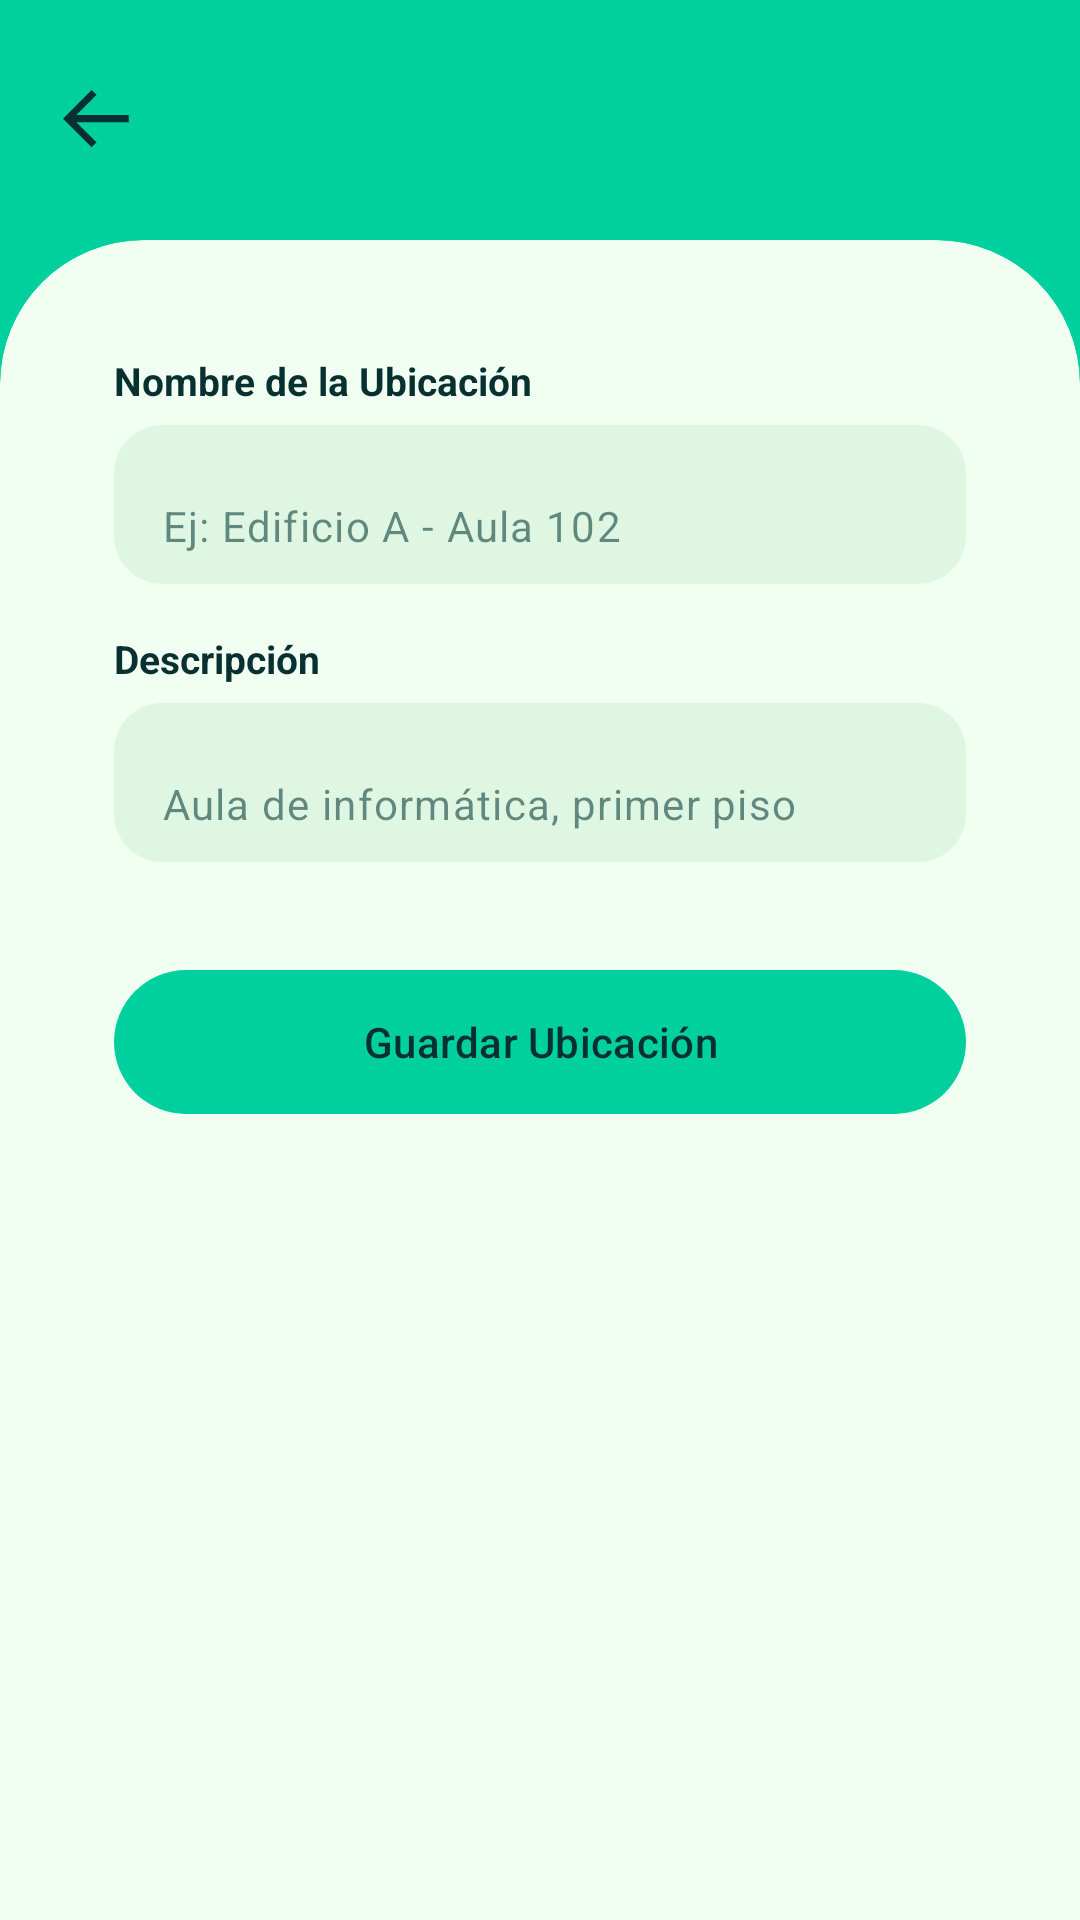

Icon bounding boxes for this 1080px x 1920px phone screenshot, format (x1, y1, x2, y2):
arrow back: (63, 90, 129, 147)
